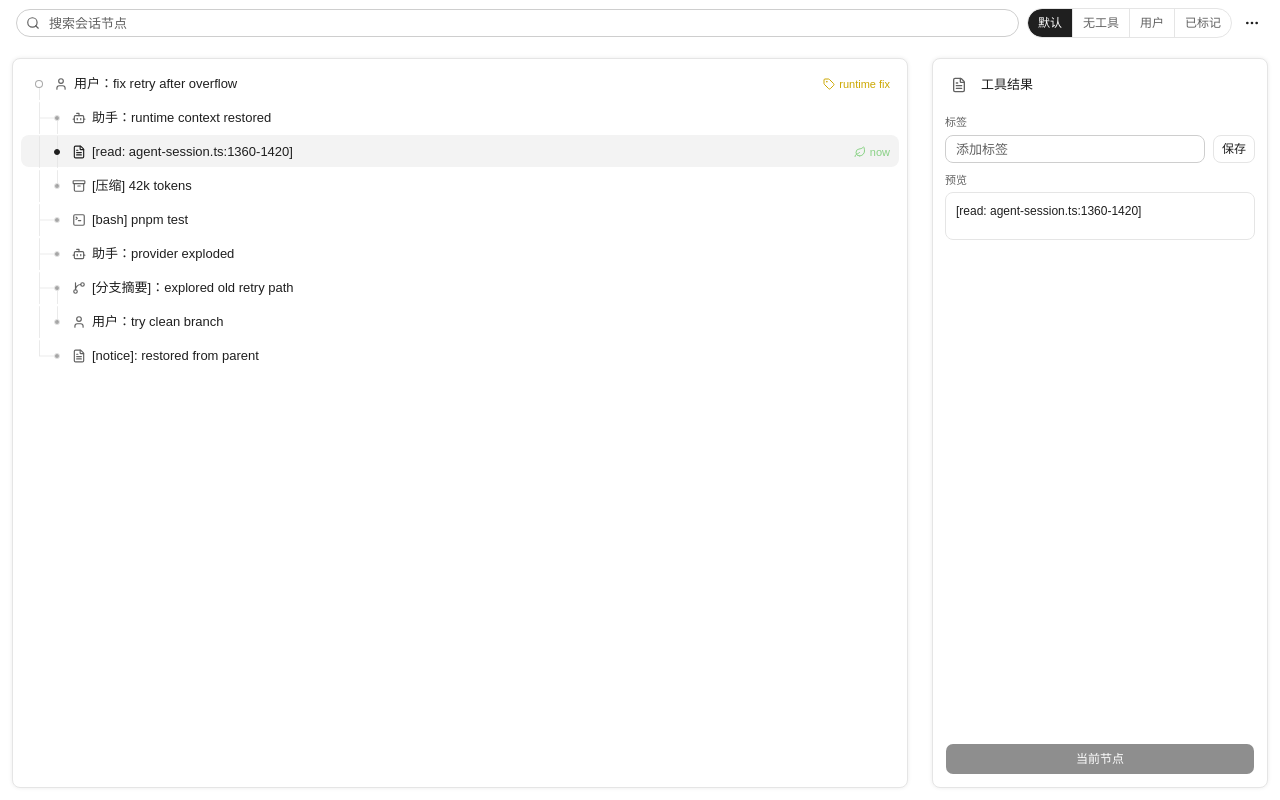
TreeApp › filters tool results and user messages without mutating navigation state
The width and height of the screenshot is (1280, 800).
Click the button "无工具": (1102, 23) [1073,9,1130,37]
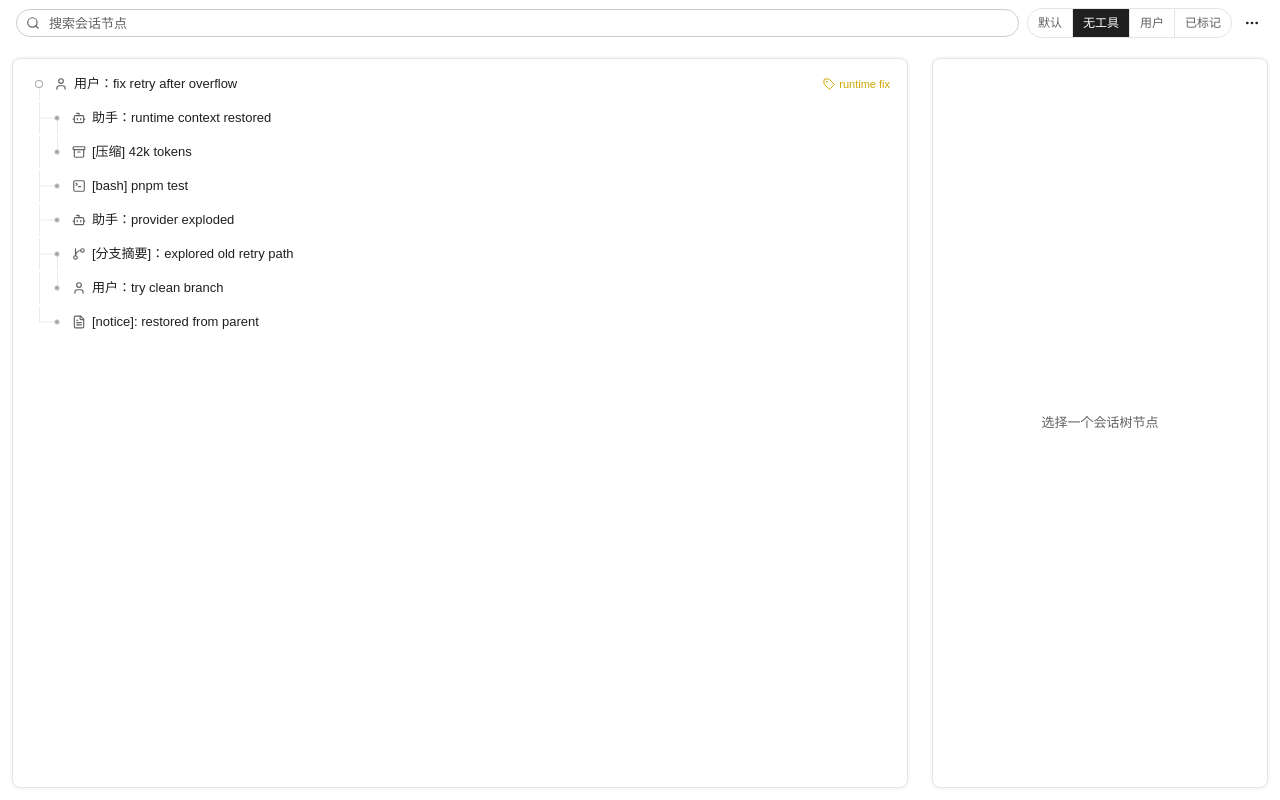
Expected: the text "[bash] pnpm test" is shown, [92,178,188,193]
Expected: the text "[read: agent-session.ts:1360-1420]" is gone
Click the button "用户": (1152, 23) [1130,9,1175,37]
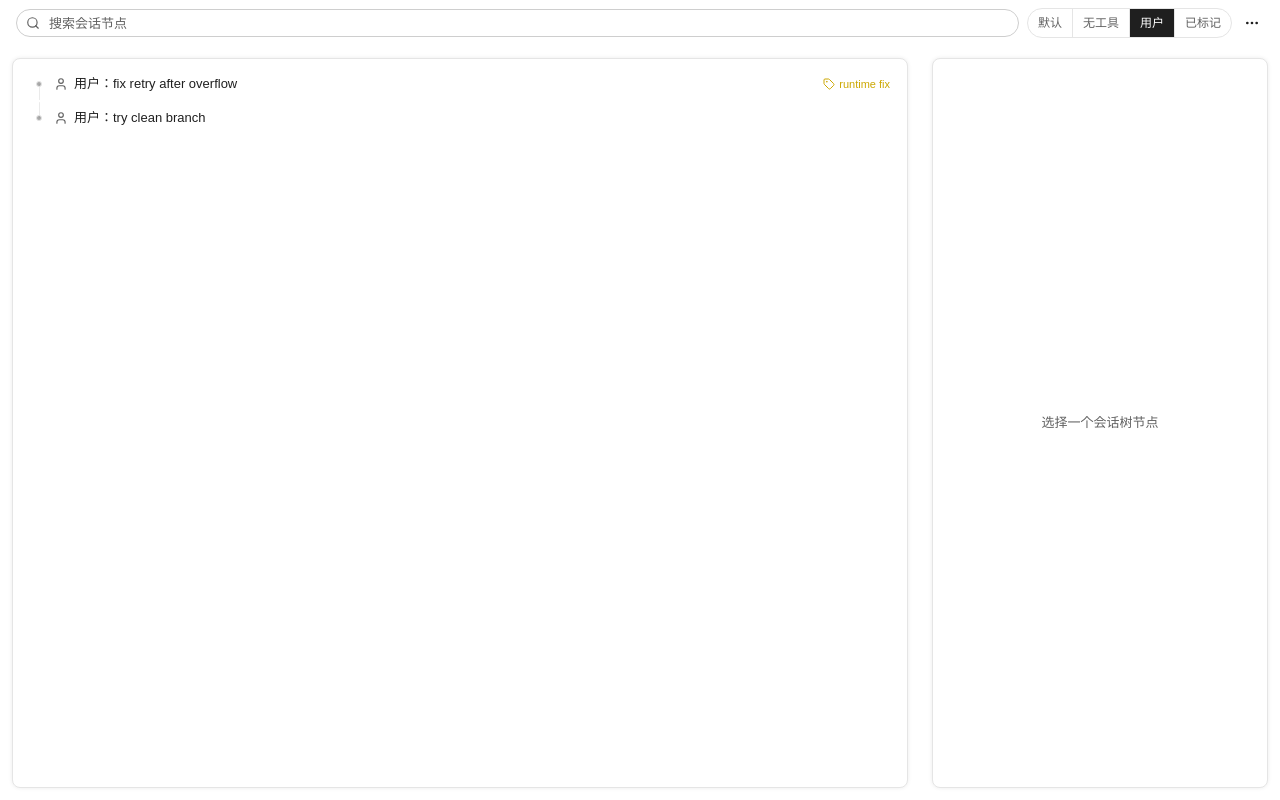
Expected: the text "用户：fix retry after overflow" is shown, [74,76,237,91]
Expected: the text "助手：runtime context restored" is gone
